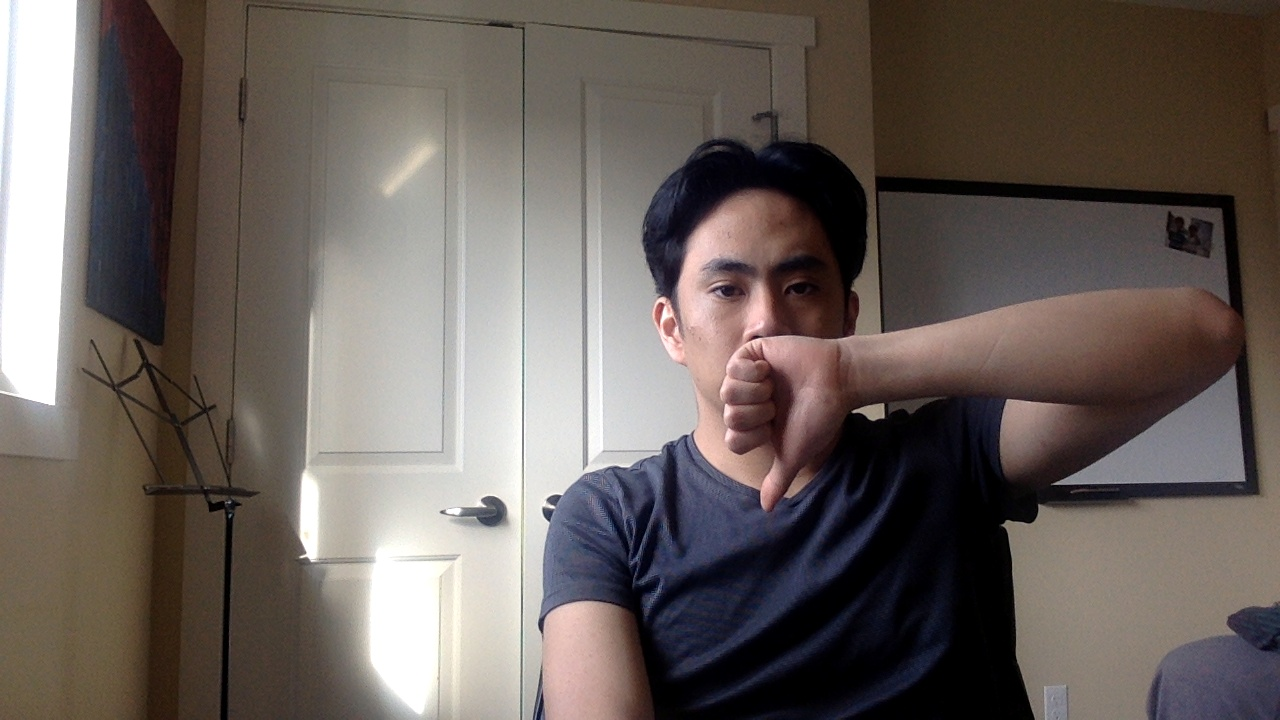ThumbsDown: (719, 340, 844, 511)
